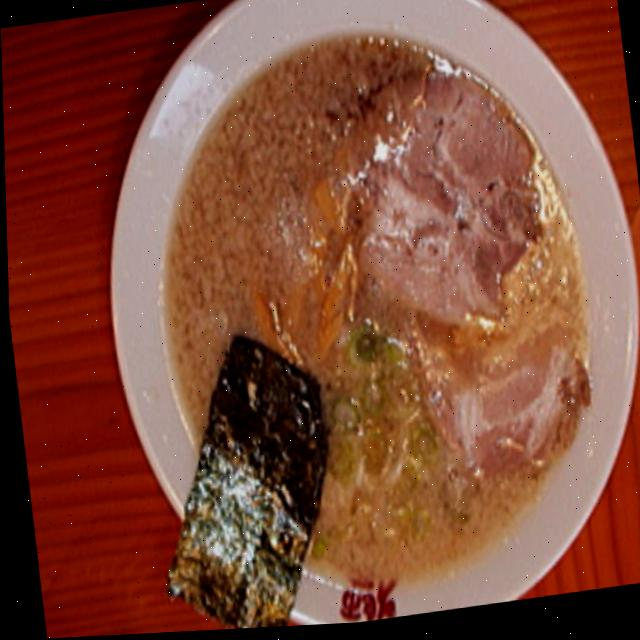面条主食: (71, 0, 640, 637)
